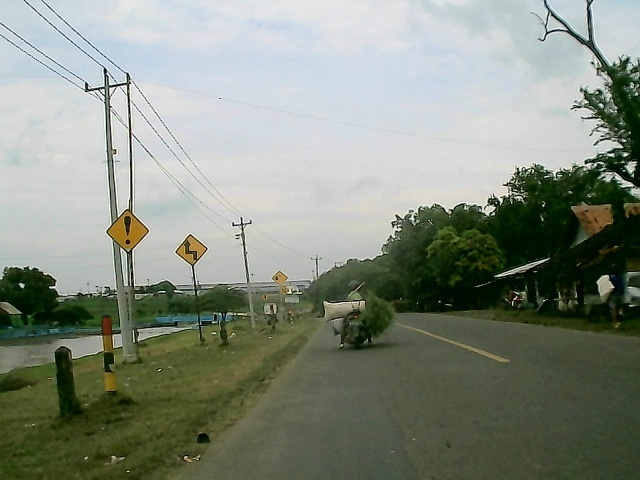Hati-hati: (102, 205, 154, 255)
Peringatan tepi air: (271, 270, 288, 287)
Tikungan garda pertama kiri: (172, 231, 211, 268)
